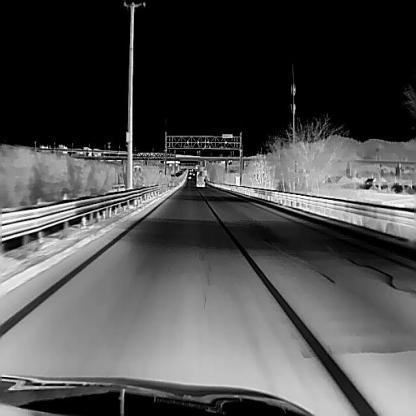car: (195, 171, 205, 186)
